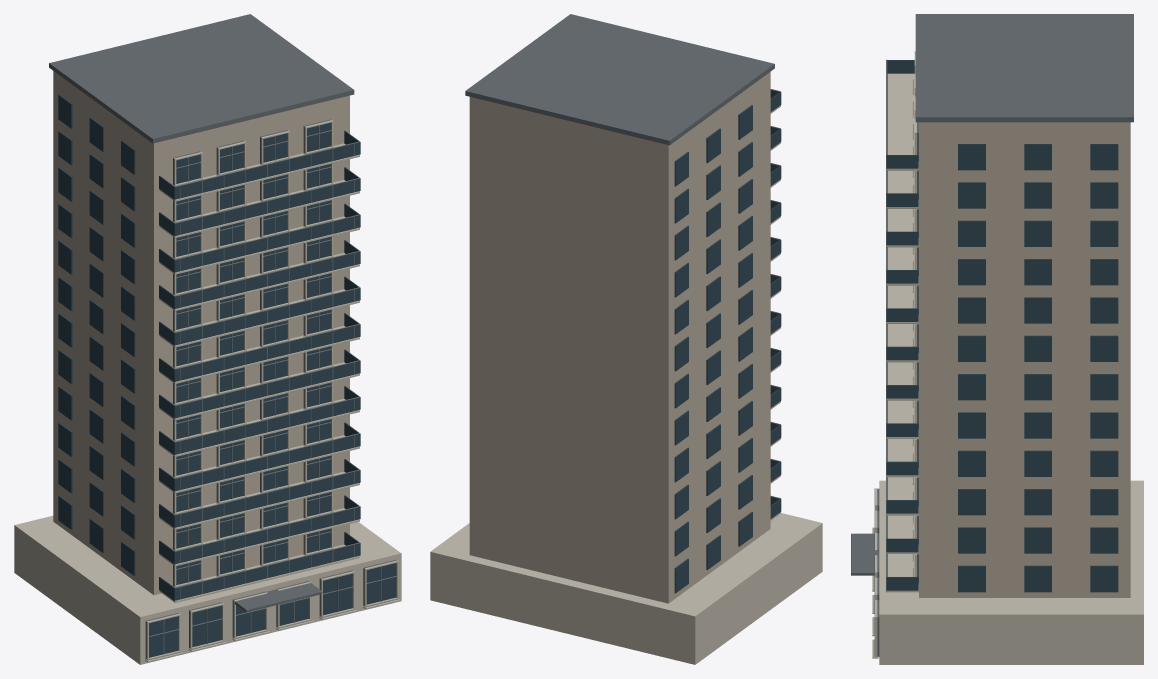
File: residential-tower-material-rich.glb
3 views of the same model, side by side, from view 1: azimuth 30°, elevation 25°; view 2: azimuth 150°, elevation 25°; view 3: azimuth 270°, elevation 25° (orthographic). The views are drawn at different scales.
Parts seen in each view (by area): view 1: glass, wall, stone, roof, frame; view 2: wall, stone, roof, glass; view 3: wall, glass, stone, roof, frame.
Part boxes in pixels (x1,y1,x2,y2): glass: (58, 94, 396, 657); wall: (53, 71, 349, 595); stone: (14, 120, 401, 664); roof: (49, 14, 396, 658); frame: (148, 125, 398, 660); wall: (469, 72, 770, 603); stone: (430, 105, 822, 664); roof: (465, 14, 774, 145); glass: (674, 90, 781, 593); wall: (919, 122, 1130, 597); glass: (886, 60, 1118, 592); stone: (872, 51, 1143, 664); roof: (851, 14, 1133, 656); frame: (873, 59, 913, 656).
Size of the model in its own units: 24 by 44.4 by 22.15.
